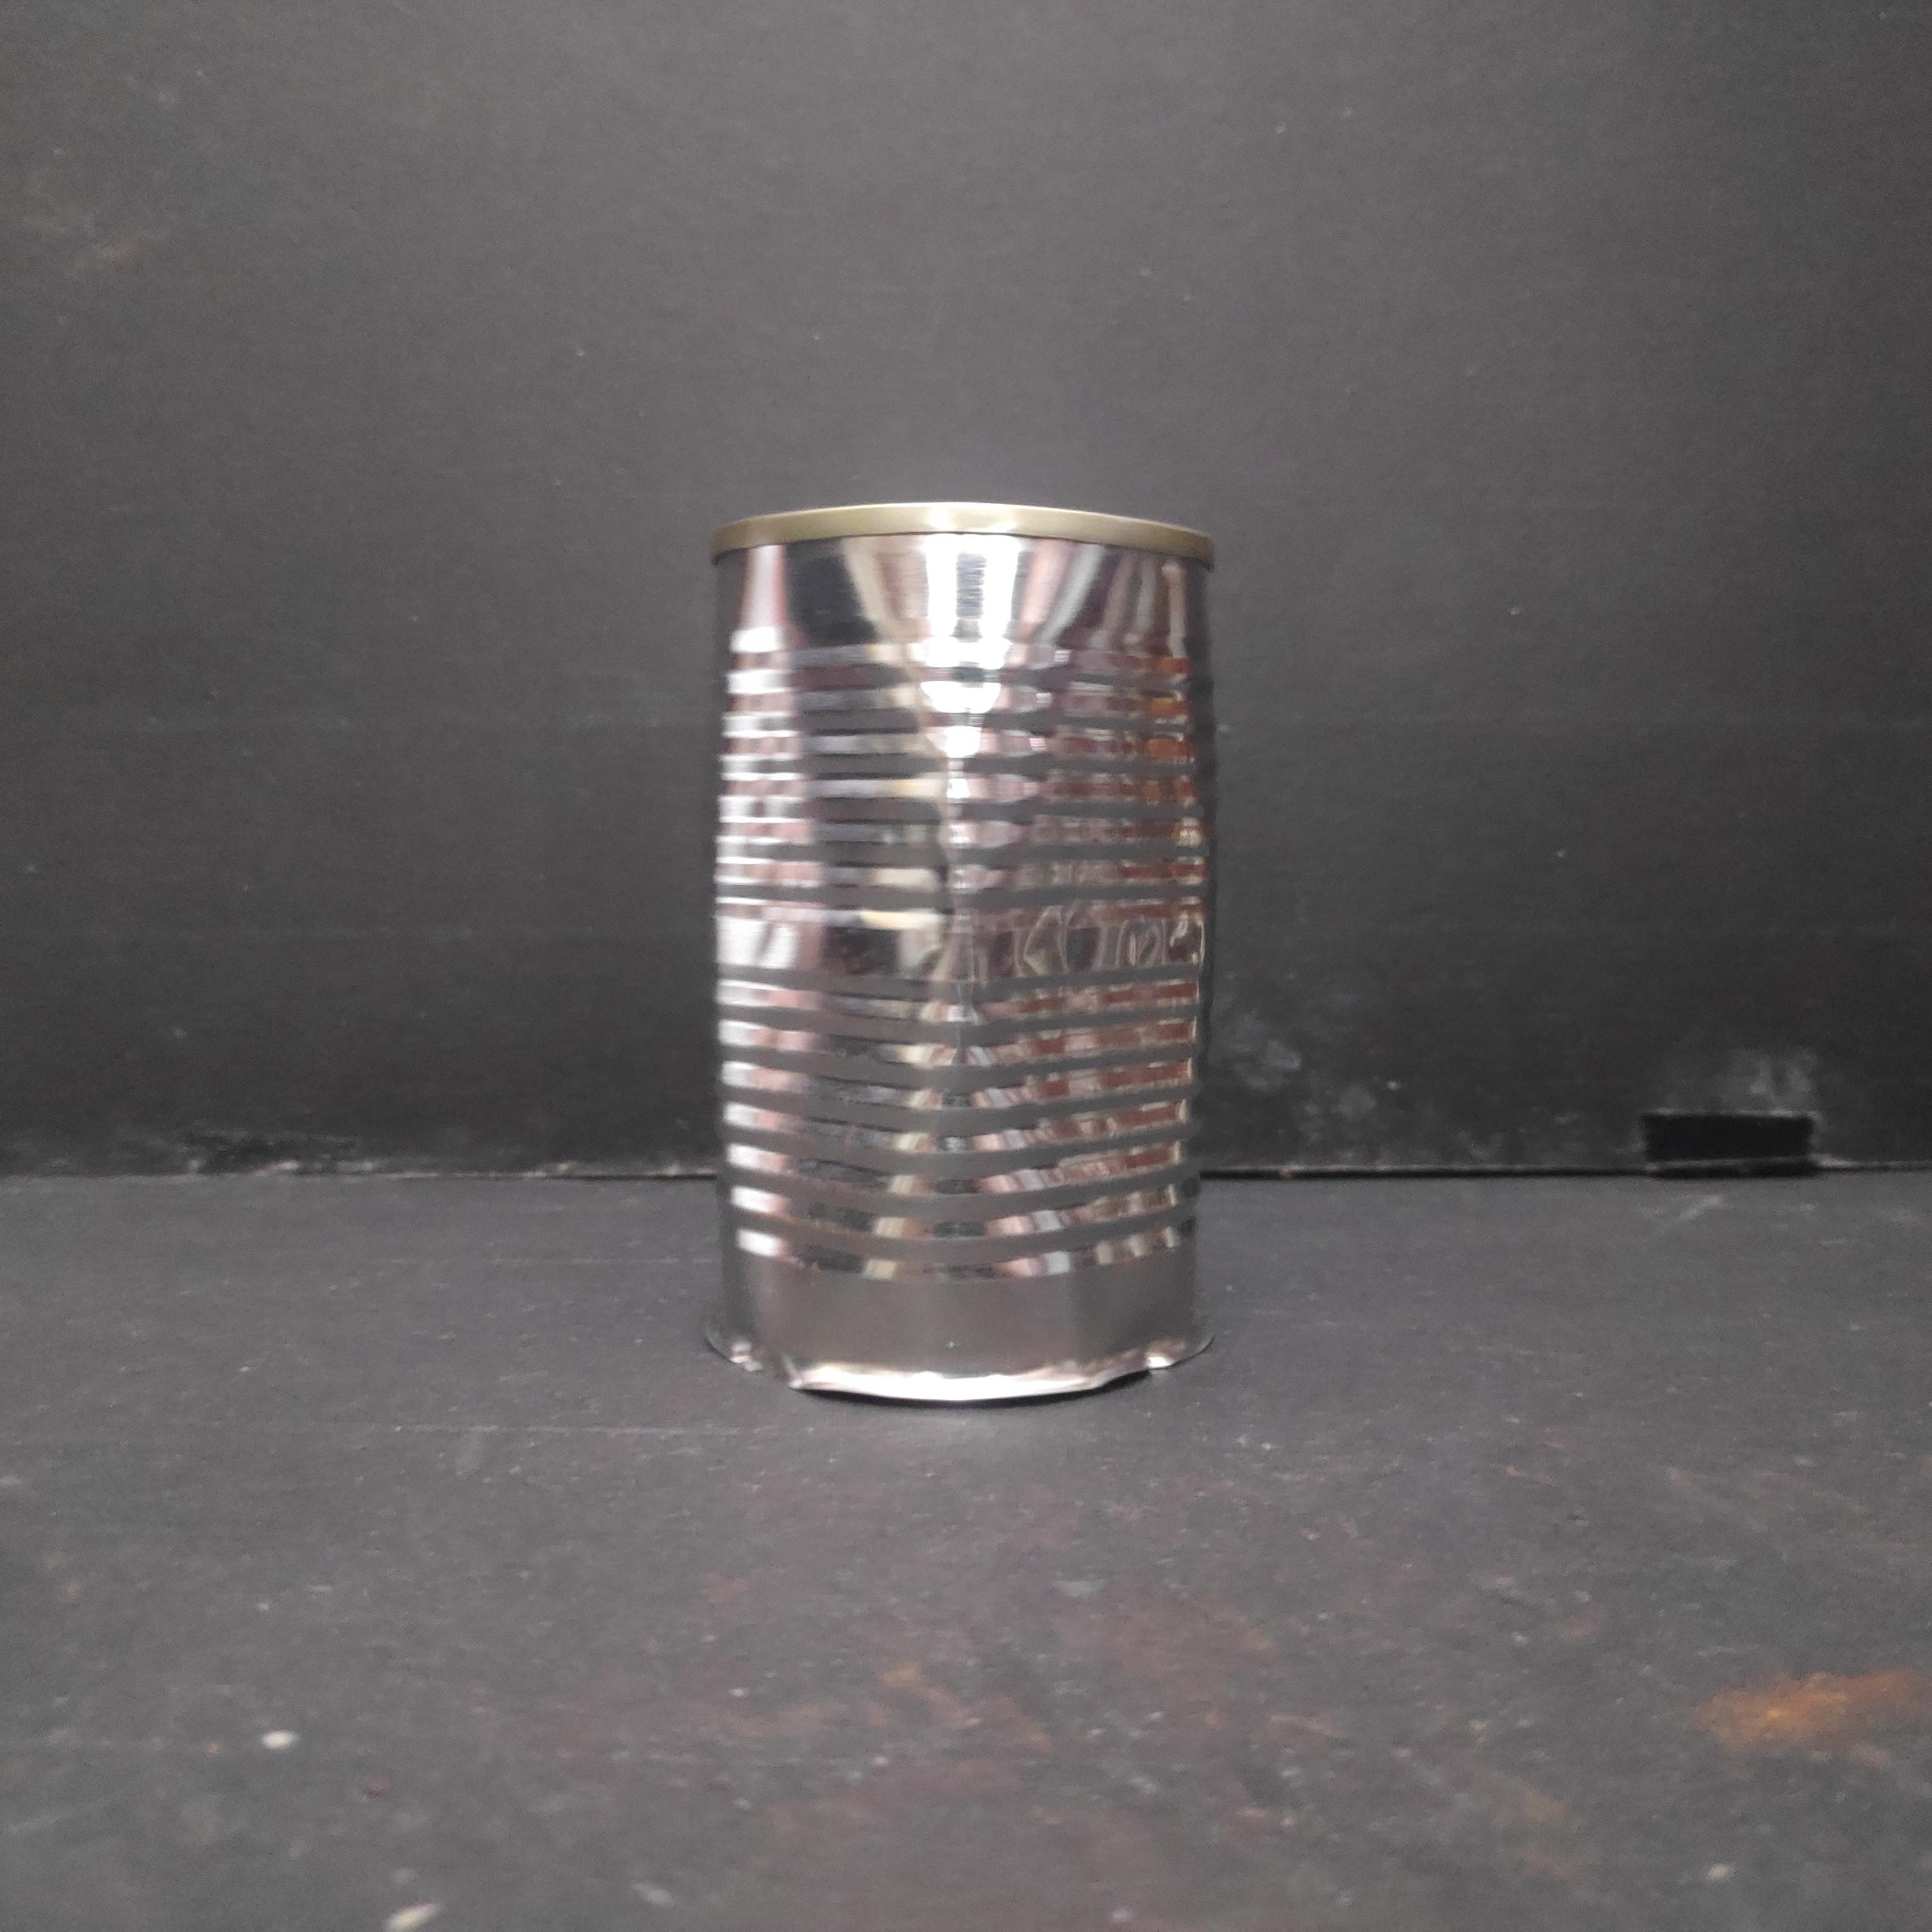Minor Defect: (704, 495, 1226, 1405)
